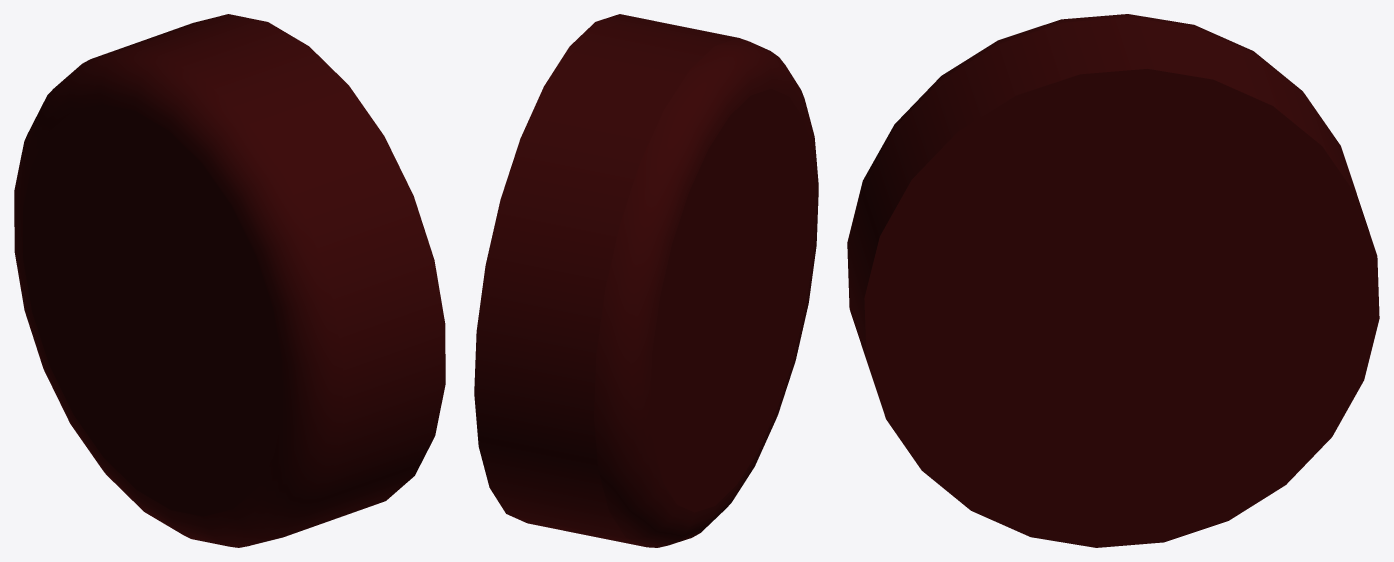
Rendered from original-42.obj.
The picture shows the model from 3 angles, left to right: view 1: azimuth 30°, elevation 25°; view 2: azimuth 150°, elevation 25°; view 3: azimuth 270°, elevation 25°; orthographic projection.
Parts seen in each view (by area): view 1: Component_5_35/Component_5/mesh11/mesh11-geometry#mesh11-geometr; view 2: Component_5_35/Component_5/mesh11/mesh11-geometry#mesh11-geometr; view 3: Component_5_35/Component_5/mesh11/mesh11-geometry#mesh11-geometr.
Boxes of the visible parts, x1,y1,x2,y2 form: Component_5_35/Component_5/mesh11/mesh11-geometry#mesh11-geometr: (14,14,445,547); Component_5_35/Component_5/mesh11/mesh11-geometry#mesh11-geometr: (474,14,818,547); Component_5_35/Component_5/mesh11/mesh11-geometry#mesh11-geometr: (847,14,1379,547).
Size of the model in its own units: 0.0257 by 0.0568 by 0.0579.
